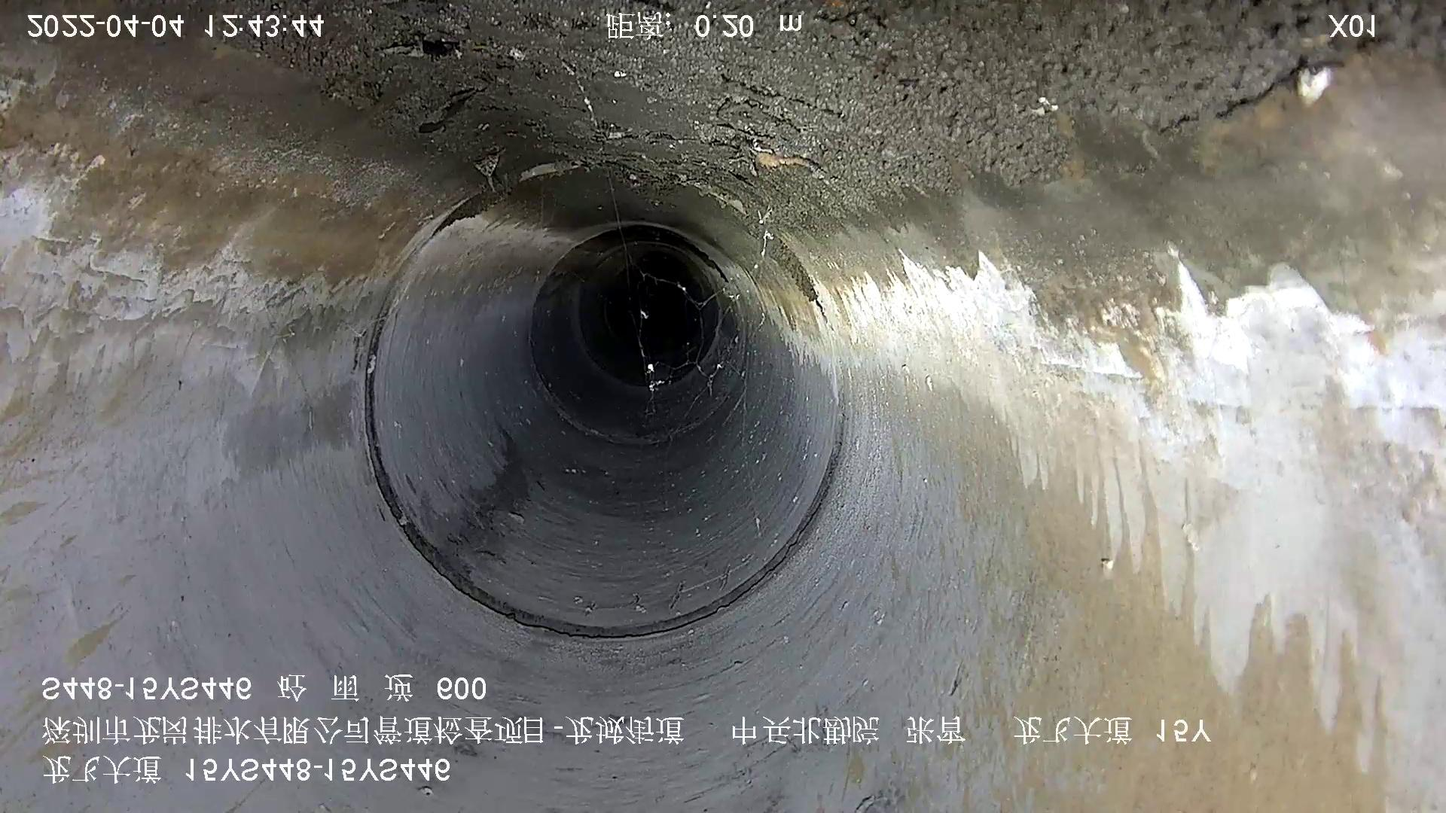CJ: (203, 1, 1445, 228)
CKTJ: (357, 193, 847, 639), (407, 160, 587, 263)
